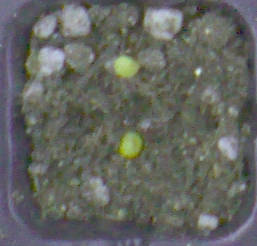pepper seed: (47, 51, 192, 211), (41, 15, 183, 95)
